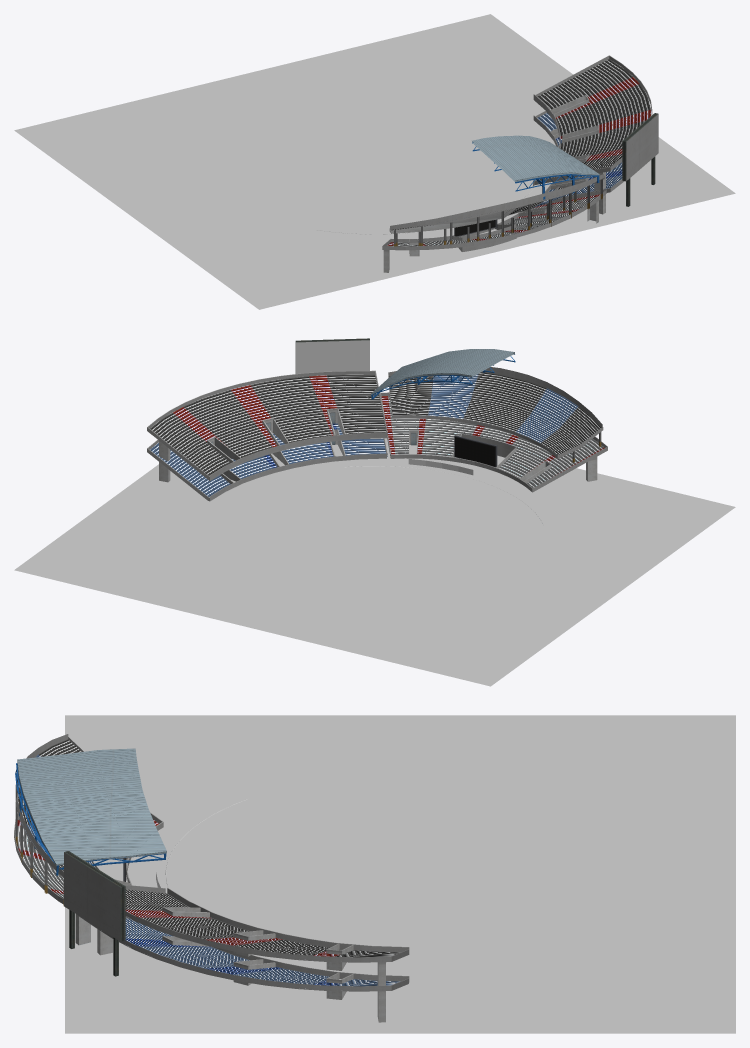
Rendered from Stadium_2.fbx.
The picture shows the model from 3 angles, top to bottom: view 1: azimuth 30°, elevation 25°; view 2: azimuth 150°, elevation 25°; view 3: azimuth 270°, elevation 25°; orthographic projection. The views are drawn at different scales.
Visible parts, largest first — view 1: Ground1, Stand2, Stand1, Roof1, Board1_3, Stand3; view 2: Ground1, Stand1, Stand2, Stand3, Roof1, Board1_1, Black_Board1; view 3: Ground1, Roof1, Stand2, Stand3, Stand1, Board1_3.
Part boxes in pixels (bbox=[...]): Ground1: bbox=[14, 14, 735, 309]; Stand2: bbox=[533, 55, 652, 190]; Stand1: bbox=[382, 174, 606, 272]; Roof1: bbox=[472, 135, 599, 199]; Board1_3: bbox=[622, 113, 658, 181]; Stand3: bbox=[533, 111, 624, 214]; Ground1: bbox=[14, 438, 735, 686]; Stand1: bbox=[380, 367, 607, 492]; Stand2: bbox=[147, 370, 387, 480]; Stand3: bbox=[147, 423, 387, 501]; Roof1: bbox=[371, 349, 515, 399]; Board1_1: bbox=[296, 340, 369, 373]; Black_Board1: bbox=[454, 435, 497, 467]; Ground1: bbox=[65, 715, 735, 1033]; Roof1: bbox=[15, 748, 166, 875]; Stand2: bbox=[123, 884, 409, 993]; Stand3: bbox=[77, 914, 409, 1022]; Stand1: bbox=[14, 734, 163, 945]; Board1_3: bbox=[64, 851, 125, 941].
Bounding box in the file's own units: 26514 × 4945 × 25419.
